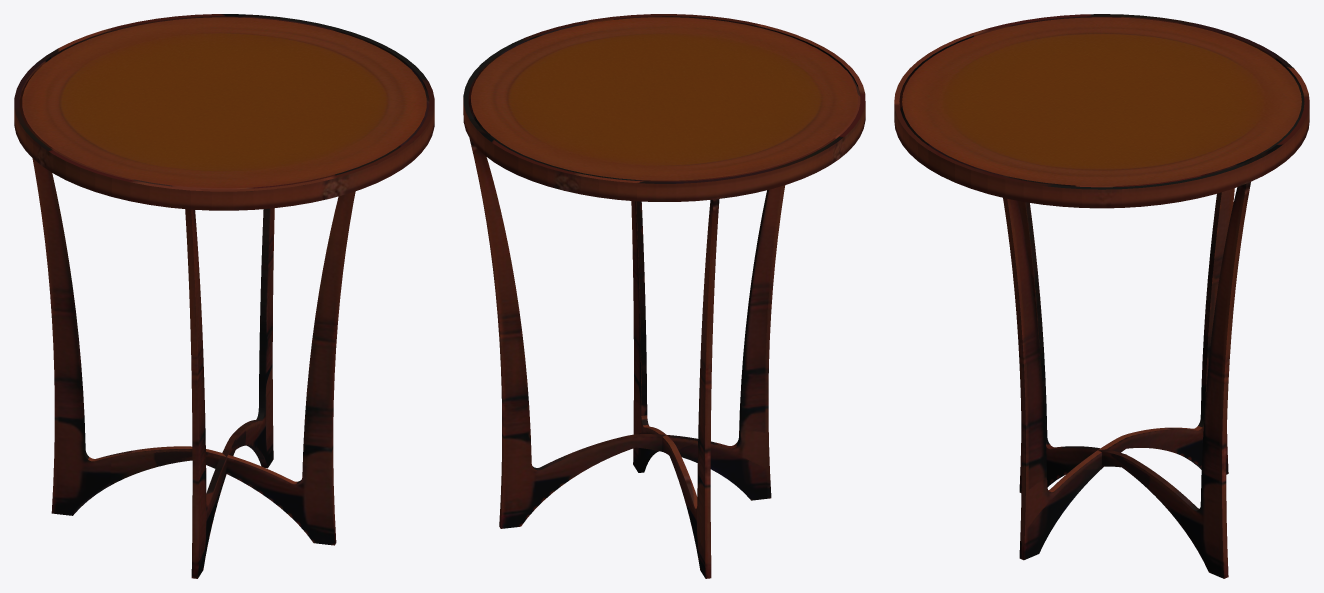
File: edited_mesh.glb
3 views of the same model, side by side, from view 1: azimuth 30°, elevation 25°; view 2: azimuth 150°, elevation 25°; view 3: azimuth 270°, elevation 25° (orthographic). The views are drawn at different scales.
Parts seen in each view (by area): view 1: solid_001_wire; view 2: solid_001_wire; view 3: solid_001_wire.
Boxes of the visible parts, x1=… form: solid_001_wire: x1=14, y1=14, x2=434, y2=578; solid_001_wire: x1=463, y1=14, x2=865, y2=578; solid_001_wire: x1=894, y1=14, x2=1309, y2=578.
Bounding box in the file's own units: 1.23 × 1.38 × 1.23.
Materials: 1 (1 with a texture image).
